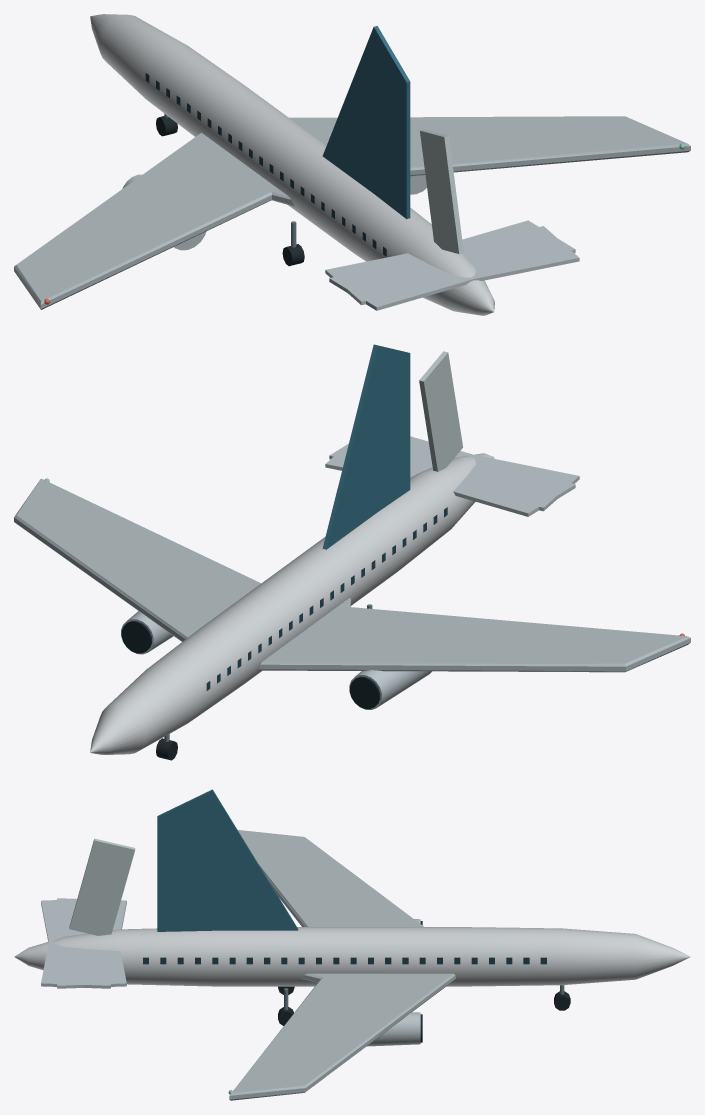
Rendered from aircraft.glb.
3 views of the same model, one above another, from view 1: azimuth 30°, elevation 25°; view 2: azimuth 150°, elevation 25°; view 3: azimuth 270°, elevation 25° (orthographic). The views are drawn at different scales.
Parts seen in each view (by area): view 1: aircraft; view 2: aircraft; view 3: aircraft.
Boxes of the visible parts, <box> form: aircraft: <box>14,14,690,315</box>; aircraft: <box>14,344,690,760</box>; aircraft: <box>14,789,690,1100</box>.
Bounding box in the file's own units: 34.19 × 13.08 × 36.8.
